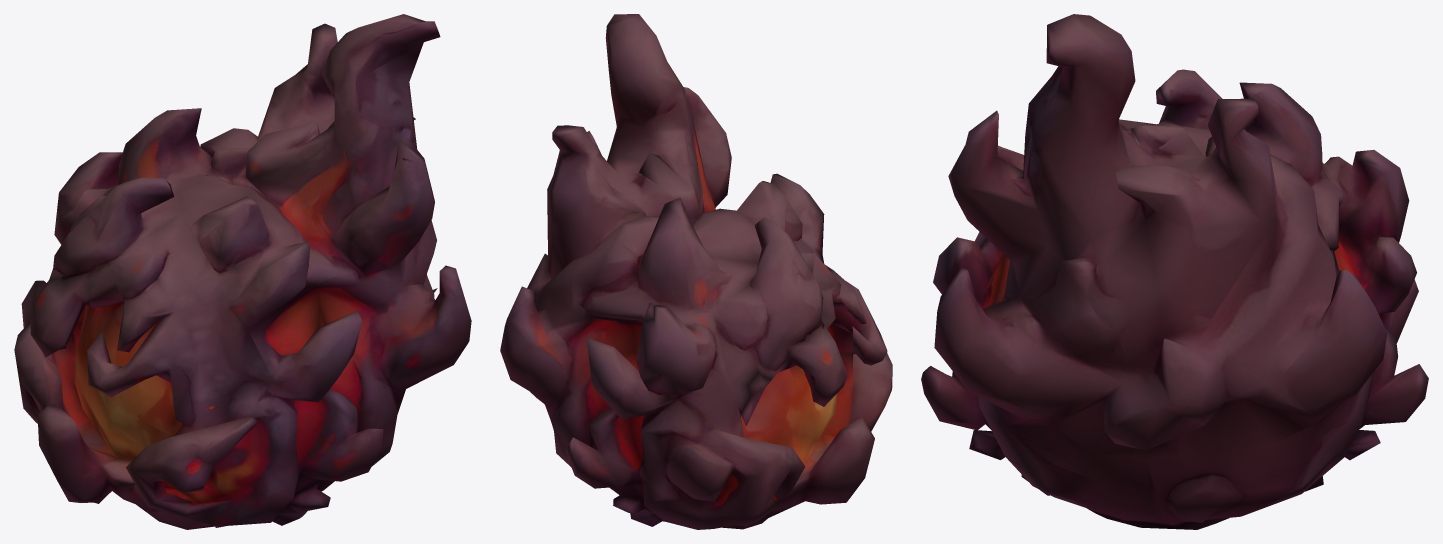
The model's file is icon-nova.glb.
3 renders of one model, left to right at view 1: azimuth 30°, elevation 25°; view 2: azimuth 150°, elevation 25°; view 3: azimuth 270°, elevation 25°, orthographic. The views are drawn at different scales.
Visible parts, largest first — view 1: tripo_node_510fca70-04fe-404a-9433-bdd2791fe2fb; view 2: tripo_node_510fca70-04fe-404a-9433-bdd2791fe2fb; view 3: tripo_node_510fca70-04fe-404a-9433-bdd2791fe2fb.
Boxes of the visible parts, x1,y1,x2,y2 form: tripo_node_510fca70-04fe-404a-9433-bdd2791fe2fb: (14, 14, 471, 529); tripo_node_510fca70-04fe-404a-9433-bdd2791fe2fb: (500, 14, 892, 529); tripo_node_510fca70-04fe-404a-9433-bdd2791fe2fb: (921, 14, 1428, 529).
Bounding box in the file's own units: 0.8432 × 0.9896 × 0.8472.
Materials: 1 (1 with a texture image).
